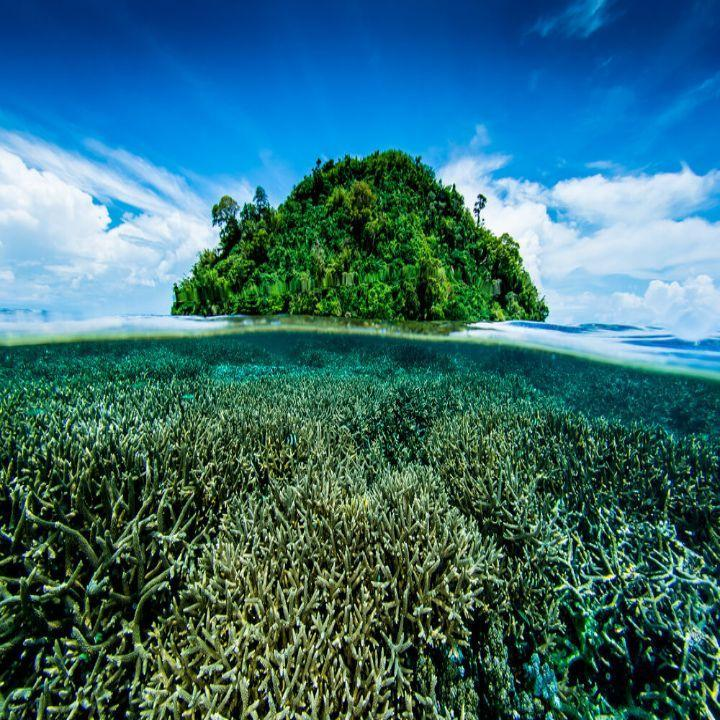Healthy Coral: (15, 367, 706, 703)
